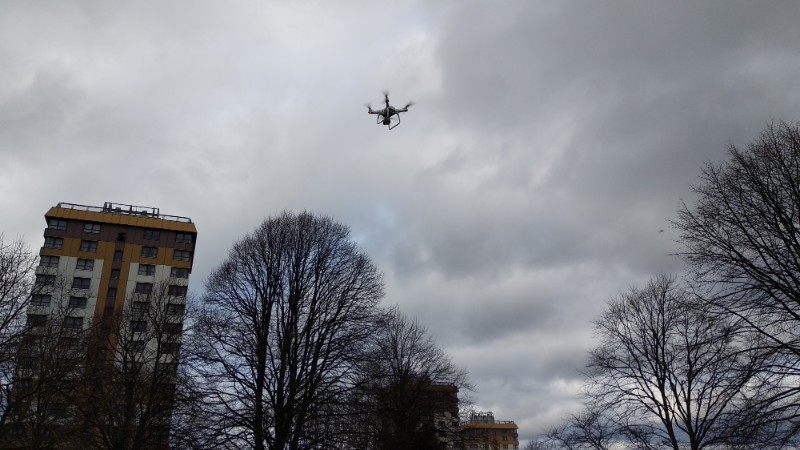drone: (364, 91, 415, 131)
